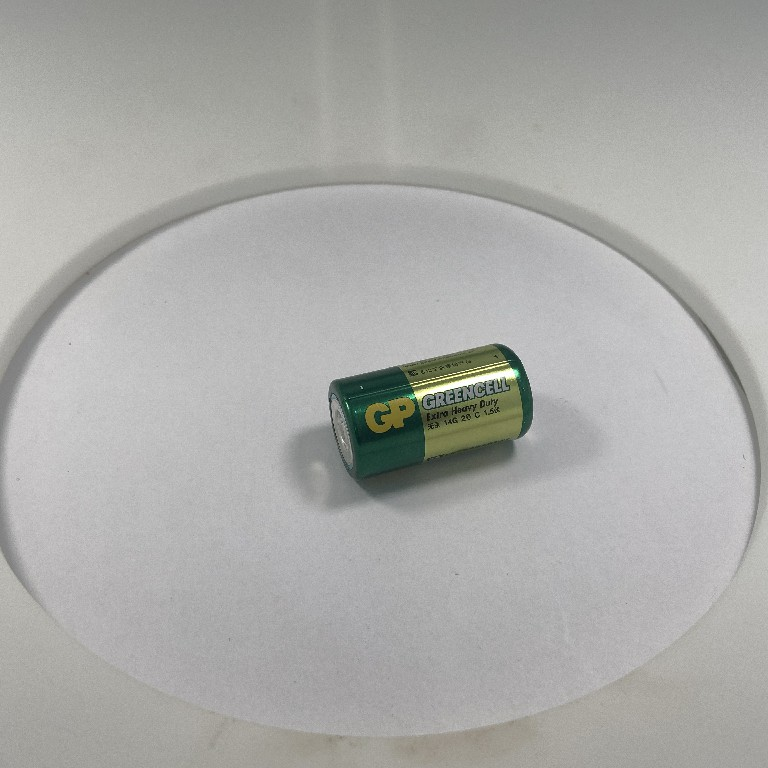charge: (323, 338, 537, 479)
